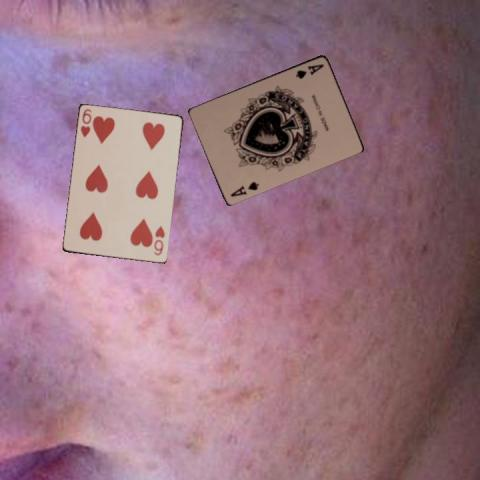6h: (151, 223, 166, 257), (78, 106, 93, 139)
As: (227, 178, 261, 198), (293, 61, 325, 80)
